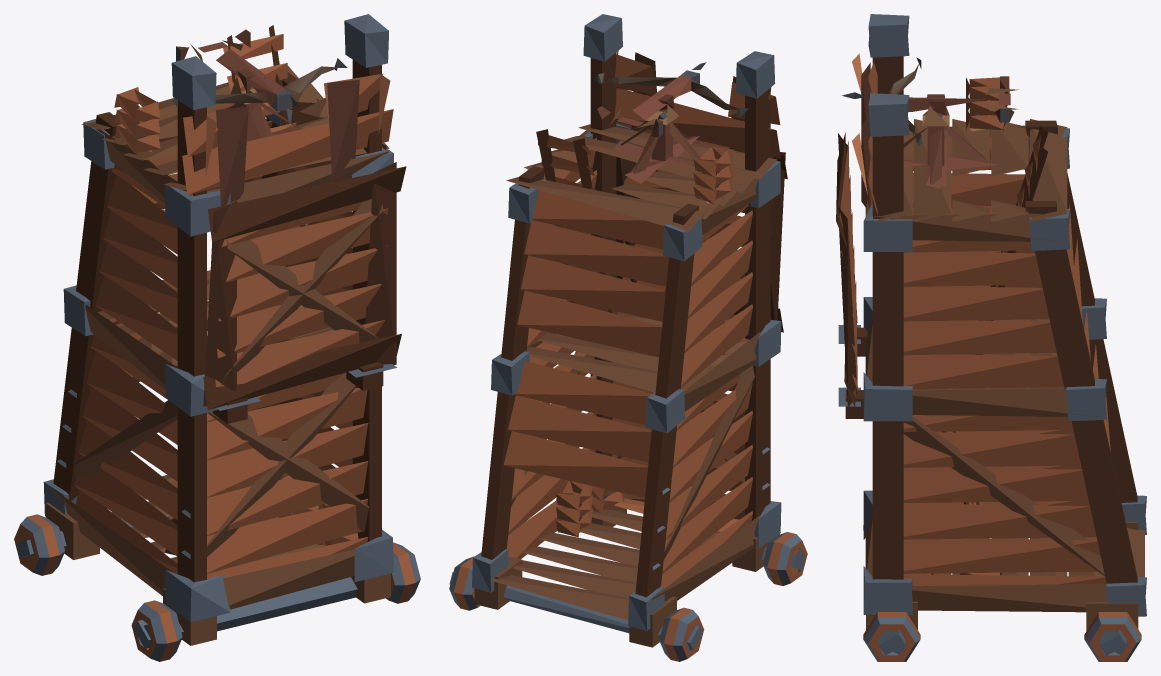
The model's file is siege-tower-b.lod1.glb.
The picture shows the model from 3 angles, left to right: view 1: azimuth 30°, elevation 25°; view 2: azimuth 150°, elevation 25°; view 3: azimuth 270°, elevation 25°; orthographic projection. The views are drawn at different scales.
Visible parts, largest first — view 1: Cube.128_WoodBeam_0; view 2: Cube.128_WoodBeam_0; view 3: Cube.128_WoodBeam_0.
Boxes of the visible parts, <box> form: Cube.128_WoodBeam_0: <box>14,14,420,661</box>; Cube.128_WoodBeam_0: <box>449,14,807,661</box>; Cube.128_WoodBeam_0: <box>836,14,1146,661</box>.
Size of the model in its own units: 6.13 by 12.46 by 6.42.
